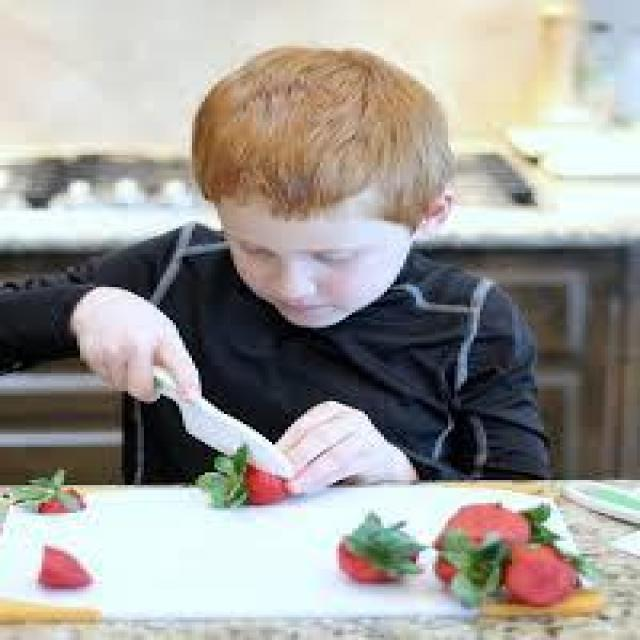child: (51, 33, 557, 473)
